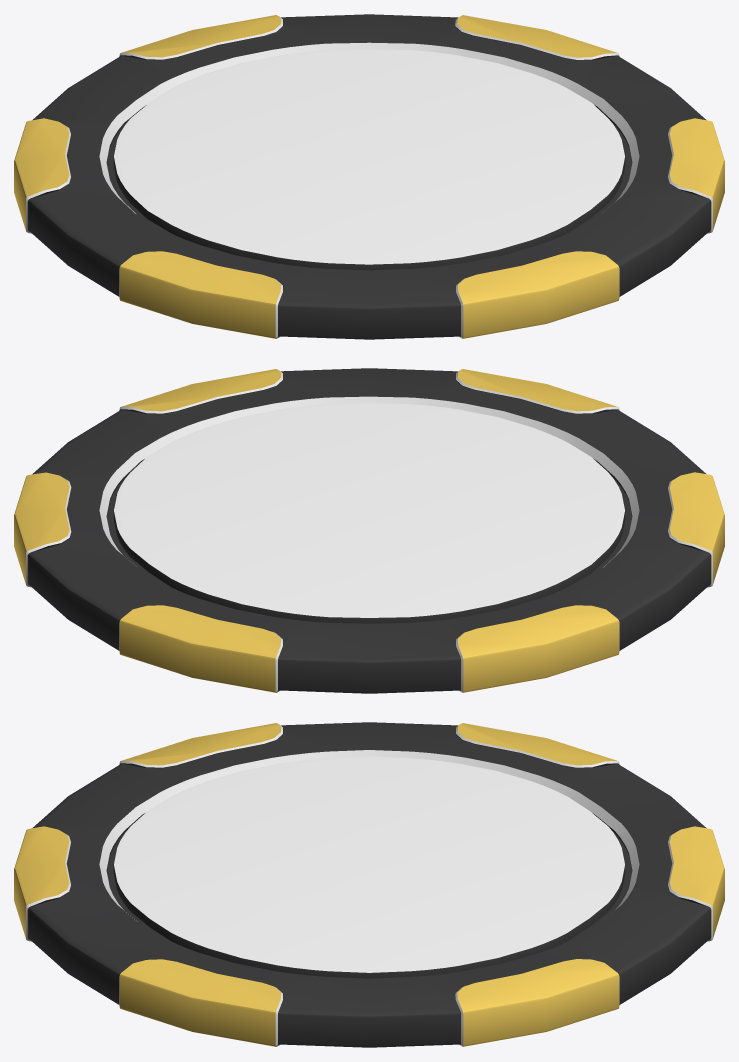
File: GoldenChip.fbx
The picture shows the model from 3 angles, top to bottom: view 1: azimuth 30°, elevation 25°; view 2: azimuth 150°, elevation 25°; view 3: azimuth 270°, elevation 25°; orthographic projection.
Parts seen in each view (by area): view 1: Chip.001; view 2: Chip.001; view 3: Chip.001.
Part boxes in pixels (box(x1,y1,x2,y2)): Chip.001: box(14, 14, 724, 339); Chip.001: box(14, 368, 724, 693); Chip.001: box(14, 722, 724, 1047).
Size of the model in its own units: 197 by 14.12 by 201.
